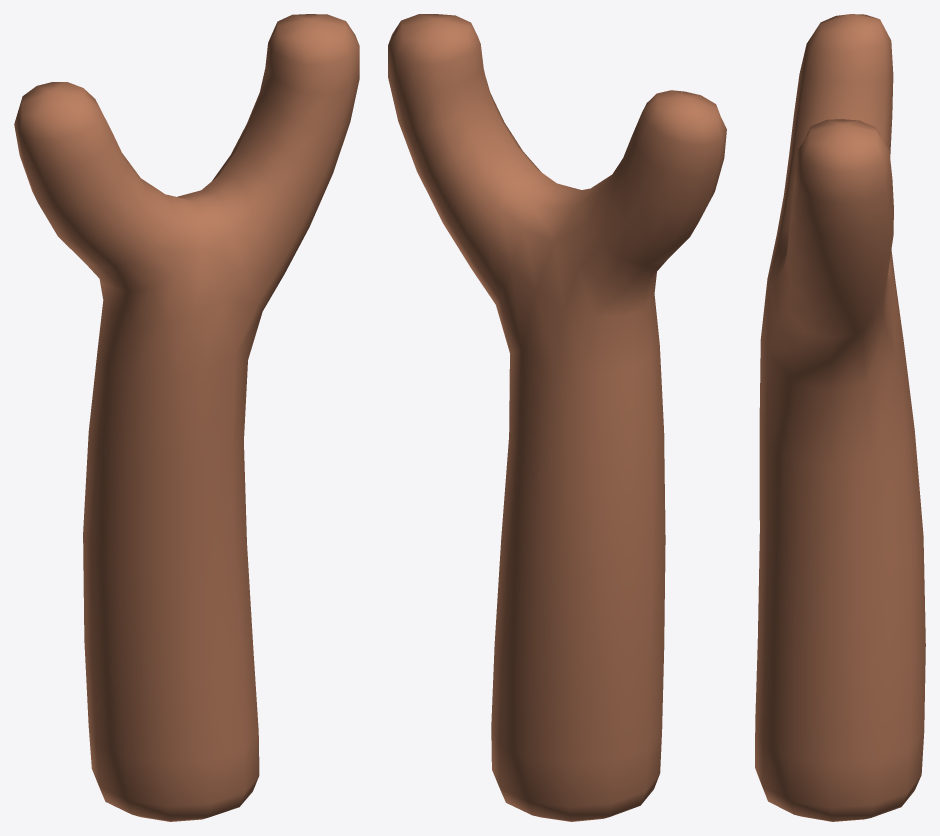
Rendered from Tree_Btm_C_01.fbx.
3 renders of one model, left to right at view 1: azimuth 30°, elevation 25°; view 2: azimuth 150°, elevation 25°; view 3: azimuth 270°, elevation 25°, orthographic.
Parts seen in each view (by area): view 1: Tree_Btm_C_01_LOD0; view 2: Tree_Btm_C_01_LOD0; view 3: Tree_Btm_C_01_LOD0.
Part boxes in pixels (x1=…): Tree_Btm_C_01_LOD0: x1=14, y1=14, x2=359, y2=821; Tree_Btm_C_01_LOD0: x1=388, y1=14, x2=726, y2=821; Tree_Btm_C_01_LOD0: x1=755, y1=14, x2=925, y2=821.
Size of what is drawn, in the model's own units: 217 by 466 by 97.28.
